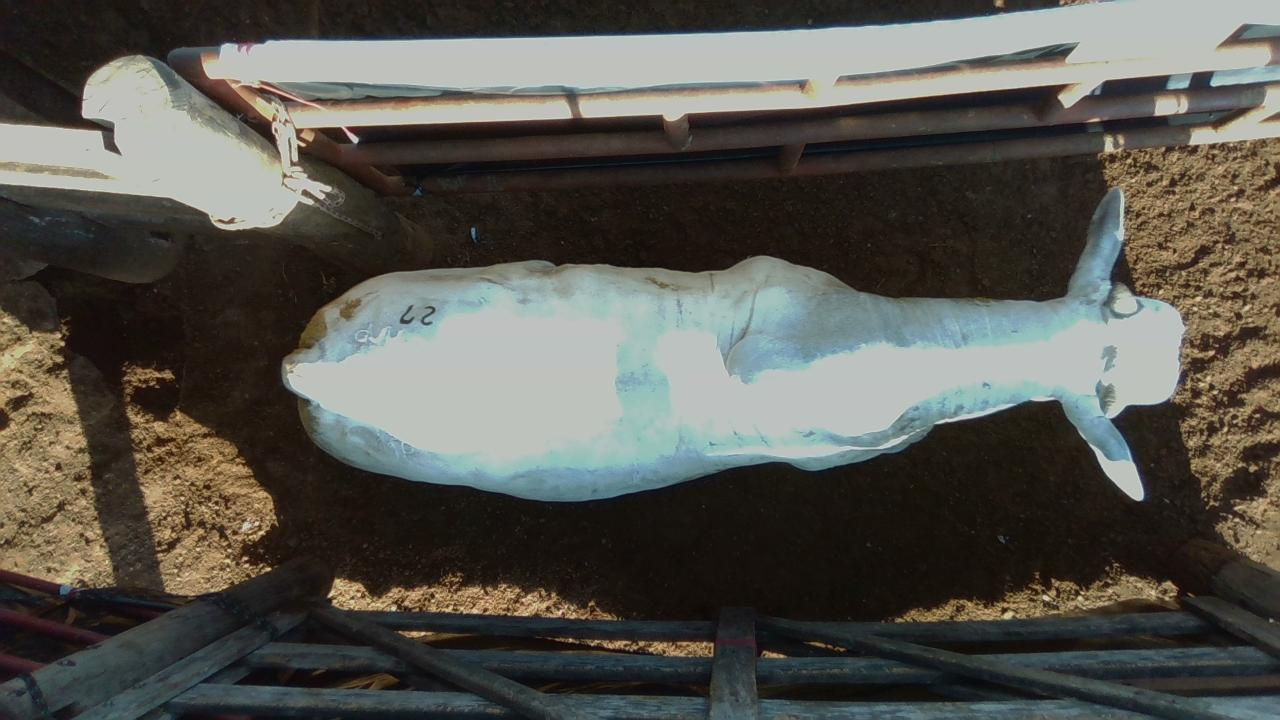cattle: (280, 185, 1186, 505)
